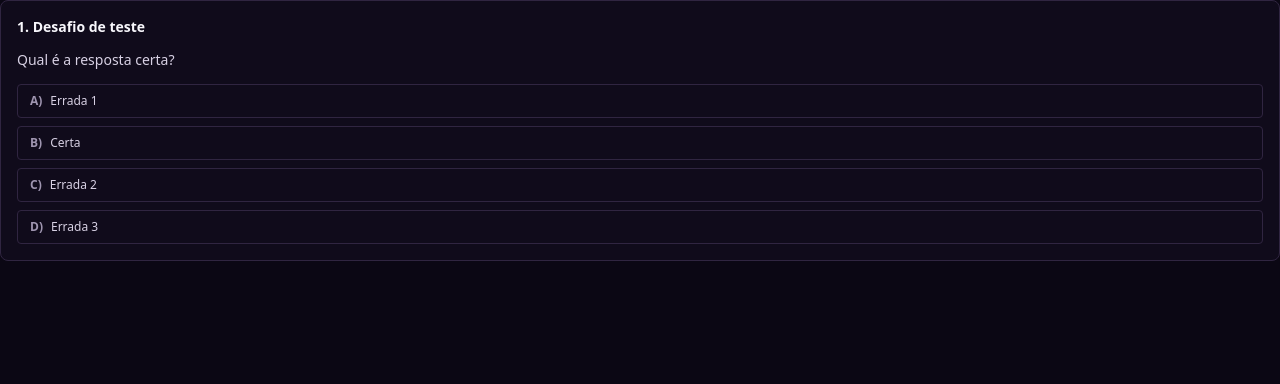
it: ConceptChallenge — comportamento genérico (fixture isolada) › "Tentar novamente" reseta a seleção e permite responder de novo
Click the button "A)Errada 1" at (74, 100), box [17,84,1263,118]
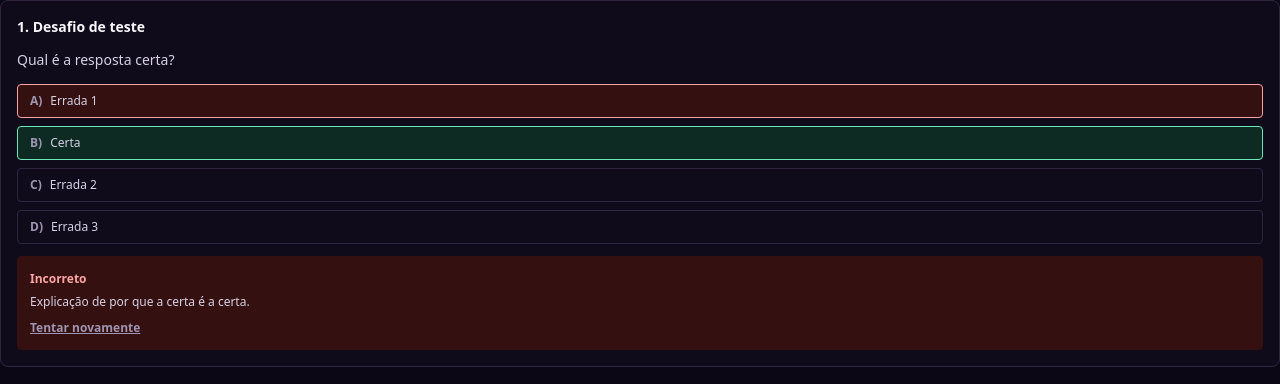
Check: the text "Incorreto" is shown, box [30,270,86,287]
Click the button "Tentar novamente" at (85, 328), box [30,320,140,336]
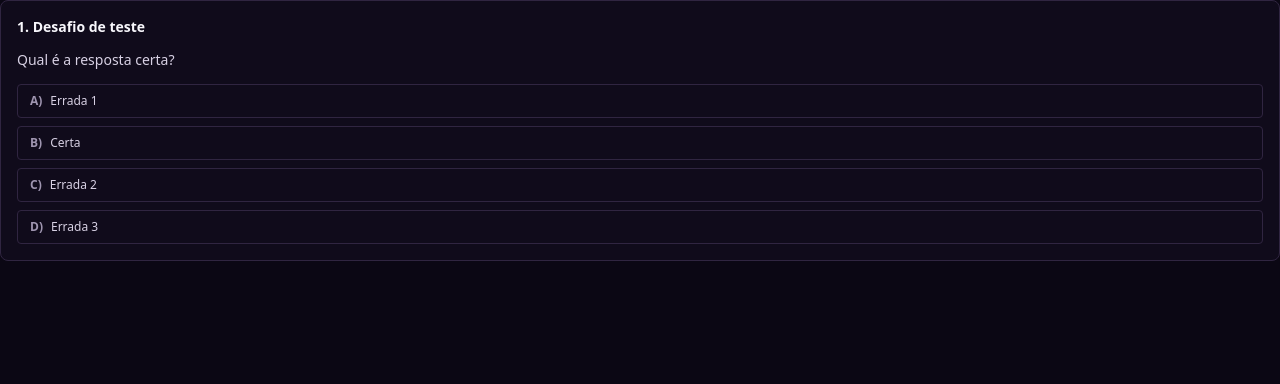
Check: the text "Incorreto" is gone
Click the button "B)Certa" at (65, 142), box [17,126,1263,160]
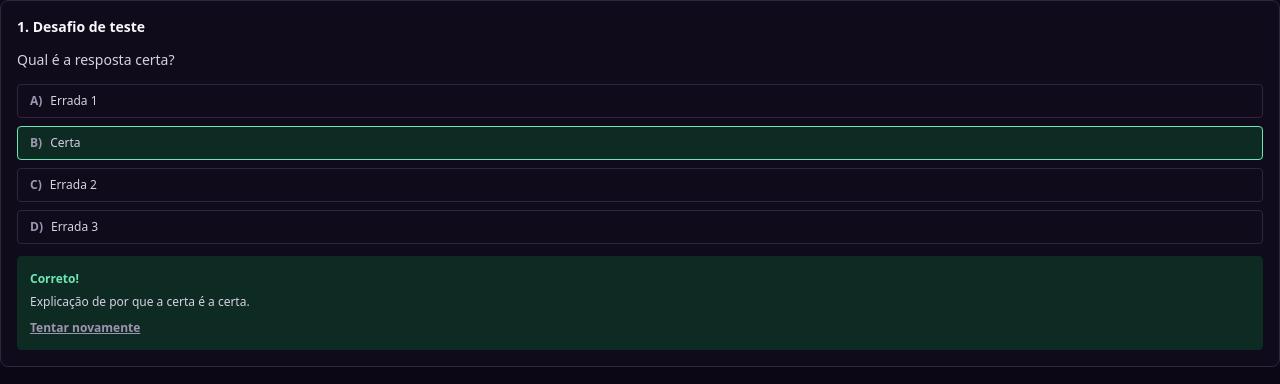
Check: the text "Correto!" is shown, box [30,270,79,287]
